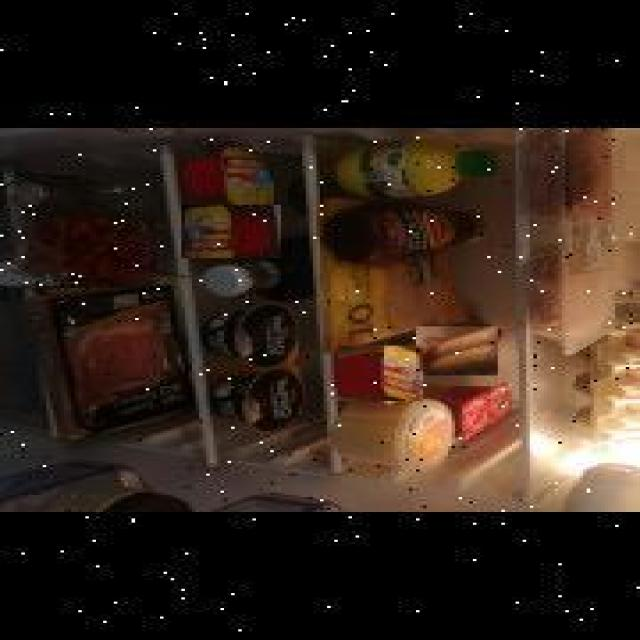sausage: (412, 326, 494, 376)
yogurt: (180, 144, 272, 204), (176, 205, 276, 258), (332, 346, 418, 401)
